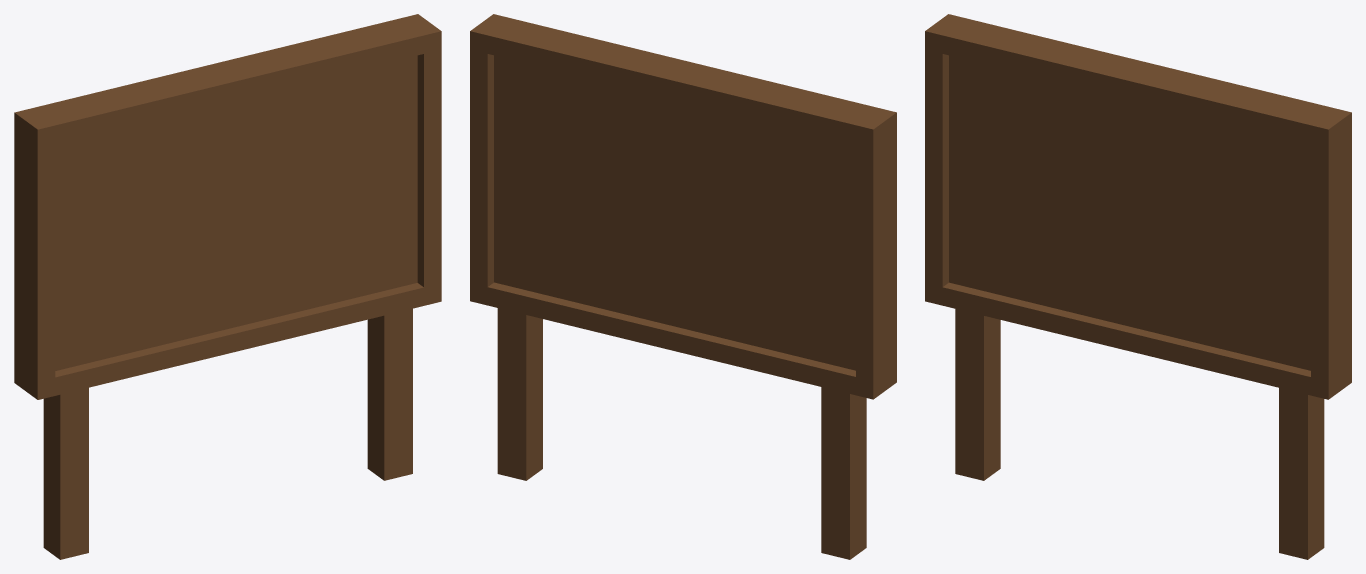
The model's file is pinnwand.fbx.
3 views of the same model, side by side, from view 1: azimuth 30°, elevation 25°; view 2: azimuth 150°, elevation 25°; view 3: azimuth 330°, elevation 25° (orthographic).
Parts seen in each view (by area): view 1: Cube; view 2: Cube; view 3: Cube.
Part boxes in pixels (<box>): Cube: <box>14,14,441,559</box>; Cube: <box>470,14,896,559</box>; Cube: <box>925,14,1351,559</box>.
Size of the model in its own units: 200 by 208 by 20.13.
